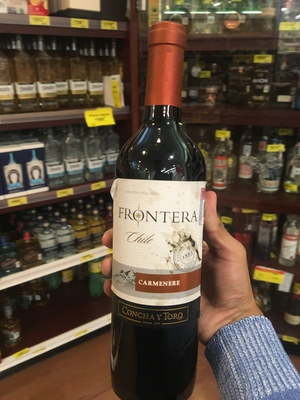frontera carmenere: (106, 20, 214, 400)
